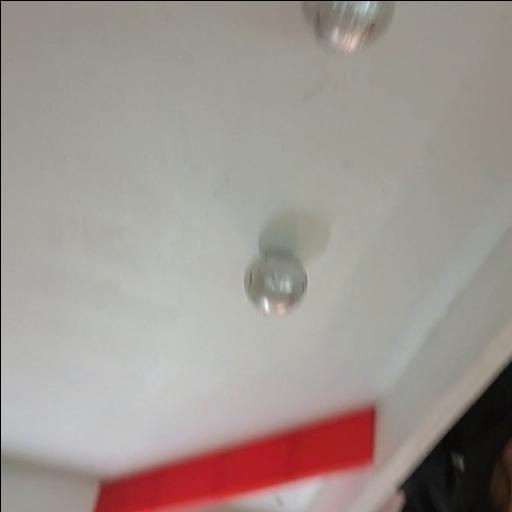alive: (302, 0, 399, 58), (240, 248, 310, 319)
